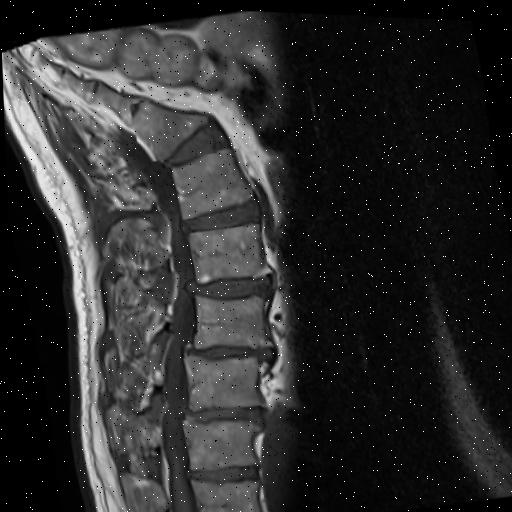L1: (178, 416, 252, 468)
L2: (181, 353, 255, 407)
L3: (192, 294, 259, 345)
L4: (187, 220, 266, 279)
L5: (168, 146, 250, 217)
S1: (129, 99, 206, 158)
